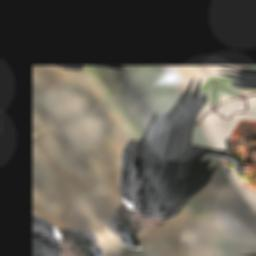Crow: (43, 74, 256, 254)
